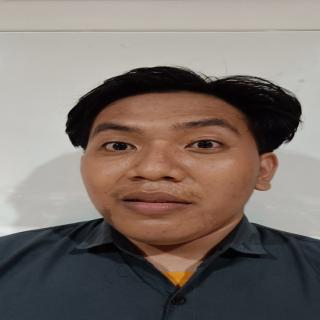Takut: (74, 89, 283, 249)
